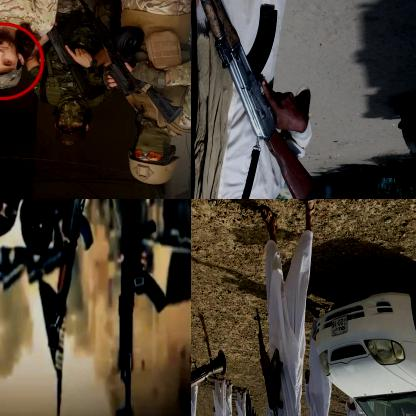rifle: (191, 0, 316, 198), (69, 0, 184, 126), (116, 223, 170, 415), (43, 199, 107, 358), (39, 14, 106, 104), (253, 304, 285, 415)
